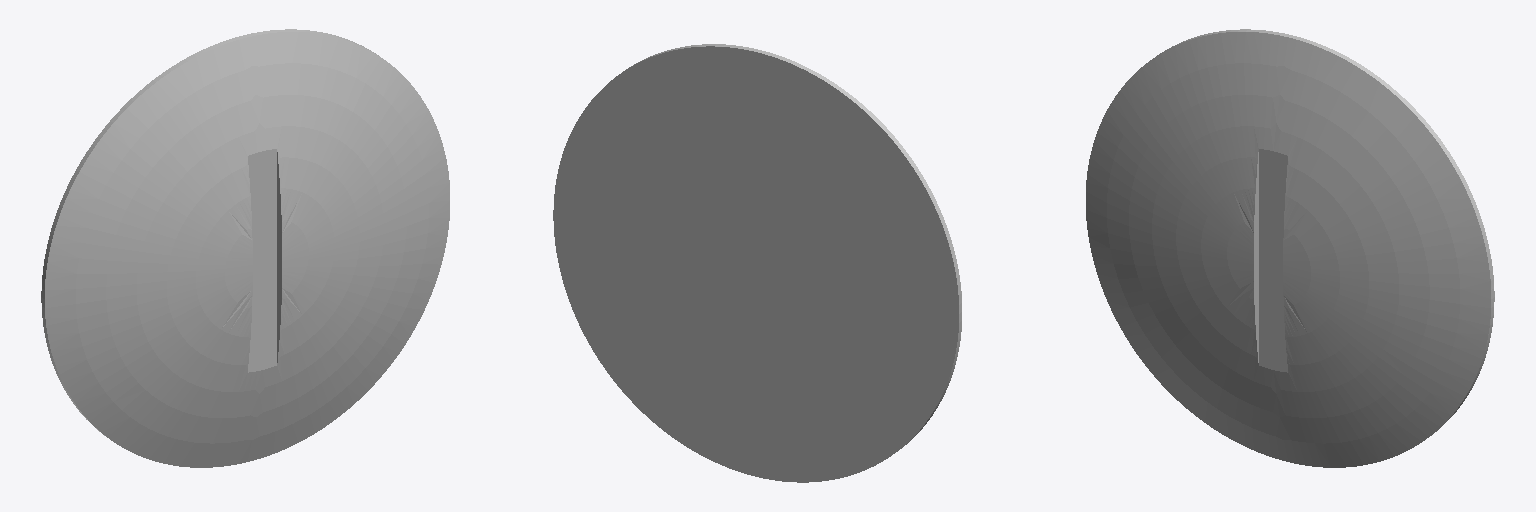
File: screw_FRONT.obj
3 views of the same model, side by side, from view 1: azimuth 30°, elevation 25°; view 2: azimuth 150°, elevation 25°; view 3: azimuth 330°, elevation 25° (orthographic).
Parts seen in each view (by area): view 1: screw_FRONT; view 2: screw_FRONT; view 3: screw_FRONT.
Boxes of the visible parts, <box> form: screw_FRONT: <box>41,29,449,467</box>; screw_FRONT: <box>553,44,961,482</box>; screw_FRONT: <box>1086,29,1494,467</box>.
Size of the model in its own units: 11 by 11 by 1.09.